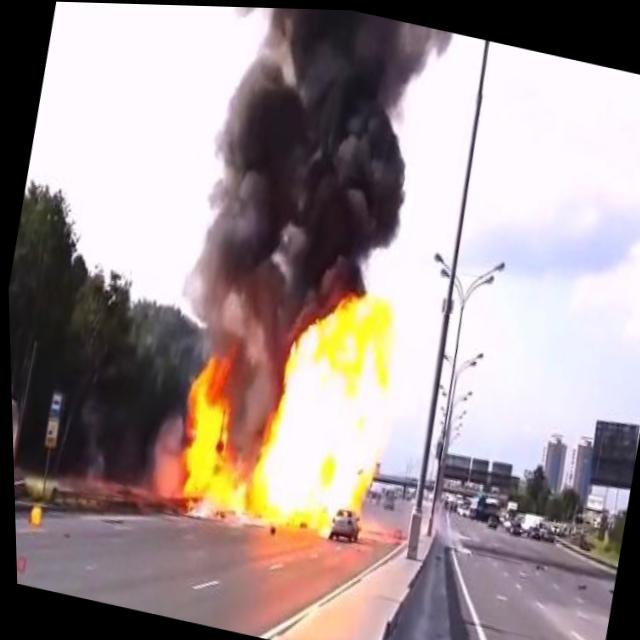fire: (155, 248, 412, 556), (24, 500, 43, 529)
